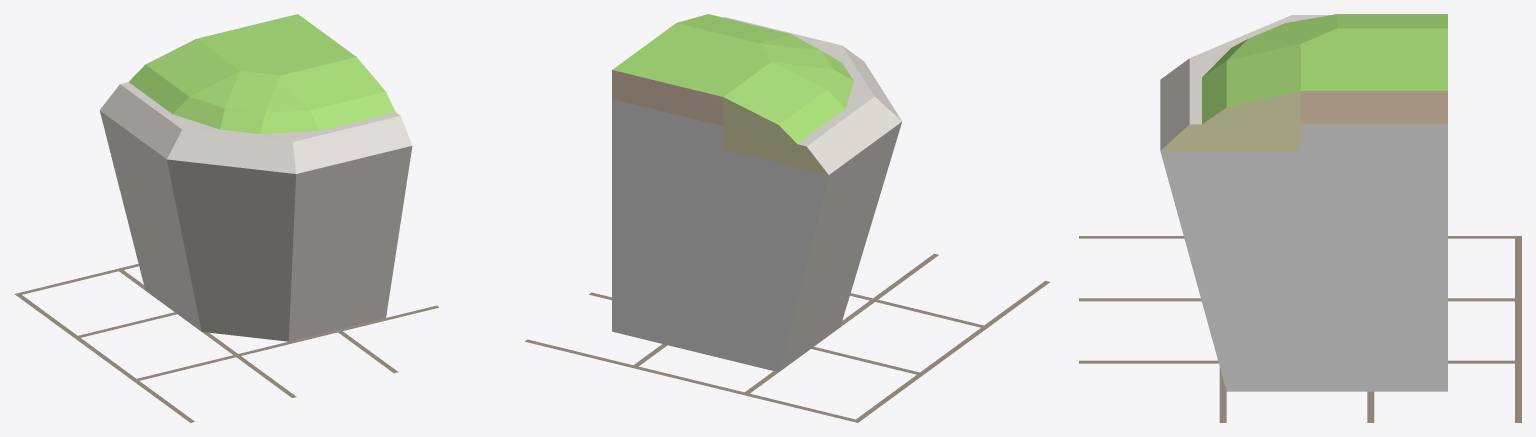
The model's file is Basic_Curve_Outer_2x2_Narrow_Top.glb.
The picture shows the model from 3 angles, left to right: view 1: azimuth 30°, elevation 25°; view 2: azimuth 150°, elevation 25°; view 3: azimuth 270°, elevation 25°; orthographic projection. The views are drawn at different scales.
Visible parts, largest first — view 1: Basic_Curve_Outer_2x2_Narrow_Top, Floor; view 2: Basic_Curve_Outer_2x2_Narrow_Top, Floor; view 3: Basic_Curve_Outer_2x2_Narrow_Top, Floor.
Boxes of the visible parts, left/top/right/bottom form: Basic_Curve_Outer_2x2_Narrow_Top: left=99, top=14, right=412, bottom=341; Floor: left=15, top=264, right=439, bottom=422; Basic_Curve_Outer_2x2_Narrow_Top: left=612, top=14, right=902, bottom=372; Floor: left=525, top=253, right=1049, bottom=422; Basic_Curve_Outer_2x2_Narrow_Top: left=1160, top=14, right=1447, bottom=391; Floor: left=1079, top=236, right=1521, bottom=422.
Size of the model in its own units: 300 by 225 by 300.
Materials: 6 (1 with a texture image).
